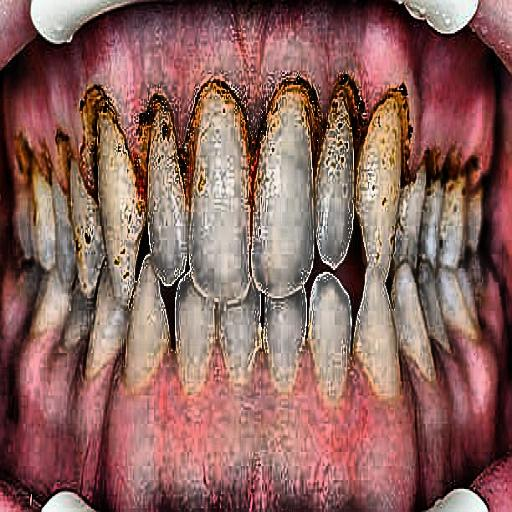Calculus: (2, 63, 512, 302)
